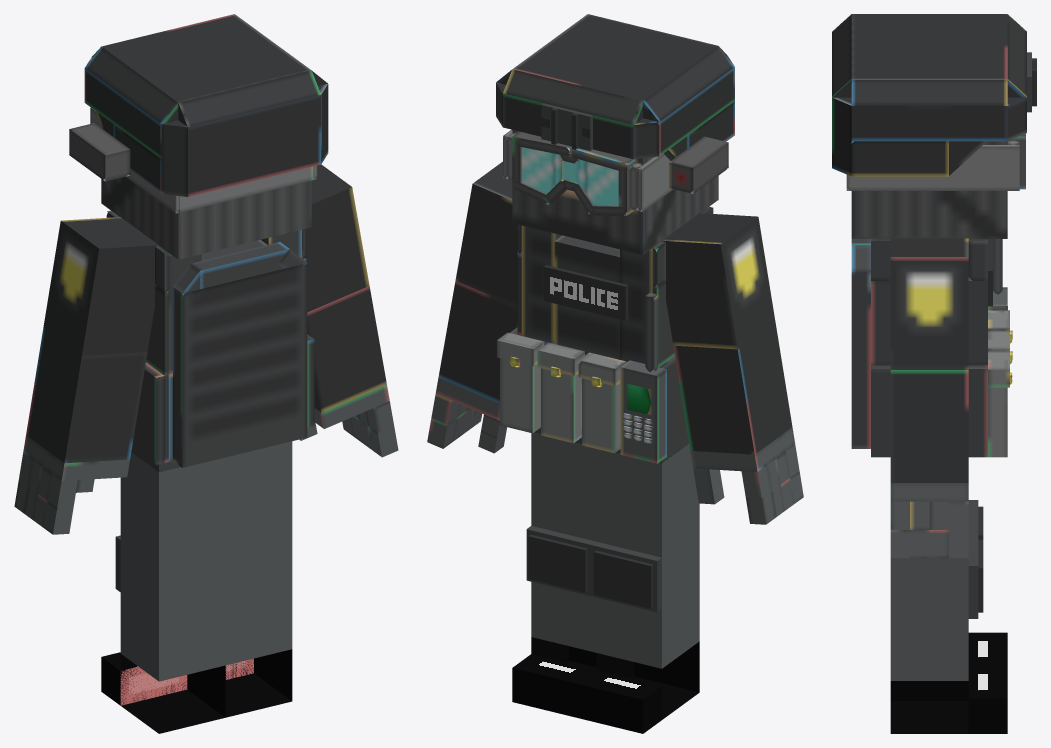
File: SWAT 1.fbx
The picture shows the model from 3 angles, left to right: view 1: azimuth 30°, elevation 25°; view 2: azimuth 150°, elevation 25°; view 3: azimuth 270°, elevation 25°; orthographic projection. The views are drawn at different scales.
Visible parts, largest first — view 1: cube_117, cube_6, cube_3, cube_10, cube_30, cube_4, cube_32, cube, cube_9, cube_2, cube_5, cube_8 (+24 smaller); view 2: cube_6, cube_3, cube_30, cube_10, cube_4, cube, cube_5, cube_2, cube_9, cube_69, cube_123, cube_8 (+42 smaller); view 3: cube_5, cube_30, cube_2, cube_4, cube_8, cube_33, cube_58, cube_124, cube_62, cube_79, cube_117, cube_35 (+28 smaller).
Boxes of the visible parts, x1,y1,x2,y2 form: cube_117: [173, 264, 307, 467]; cube_6: [43, 217, 158, 355]; cube_3: [26, 328, 147, 463]; cube_10: [120, 468, 225, 594]; cube_30: [101, 14, 310, 102]; cube_4: [101, 177, 311, 259]; cube_32: [188, 95, 321, 196]; cube: [120, 566, 225, 681]; cube_9: [225, 457, 292, 577]; cube_2: [307, 286, 386, 412]; cube_5: [306, 164, 369, 312]; cube_8: [225, 562, 292, 665]; cube_6: [662, 213, 775, 349]; cube_3: [673, 322, 792, 454]; cube_30: [513, 14, 717, 100]; cube_10: [596, 459, 699, 582]; cube_4: [512, 130, 718, 254]; cube: [596, 556, 699, 668]; cube_5: [455, 161, 517, 306]; cube_2: [438, 280, 517, 403]; cube_9: [531, 449, 596, 541]; cube_69: [554, 235, 619, 359]; cube_123: [577, 670, 661, 733]; cube_8: [531, 582, 596, 652]; cube_5: [890, 238, 968, 369]; cube_30: [851, 14, 1007, 79]; cube_2: [890, 370, 968, 482]; cube_4: [851, 141, 1007, 238]; cube_8: [890, 592, 968, 680]; cube_33: [851, 106, 1007, 141]; cube_58: [846, 144, 1019, 190]; cube_124: [890, 681, 968, 733]; cube_62: [851, 80, 1007, 105]; cube_79: [871, 365, 987, 457]; cube_117: [851, 272, 870, 448]; cube_35: [851, 141, 948, 176].
Bounding box in the file's own units: 130 × 231 × 65.63.
Materials: 6 (6 with a texture image).
